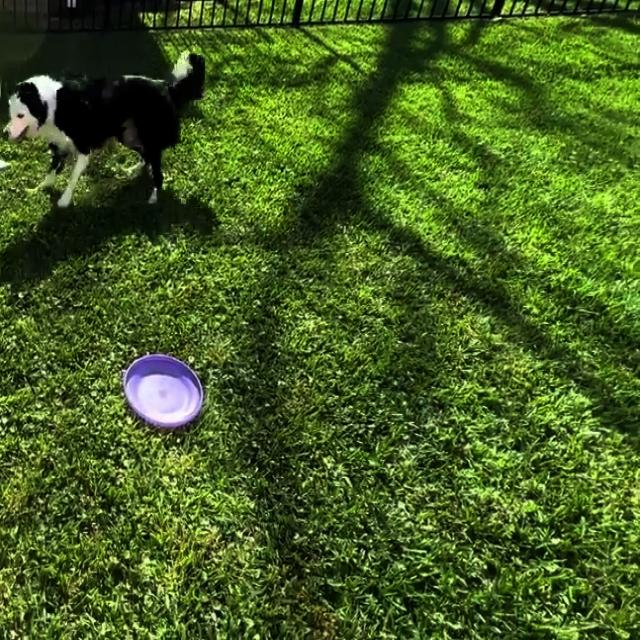Dog: (0, 49, 205, 209)
